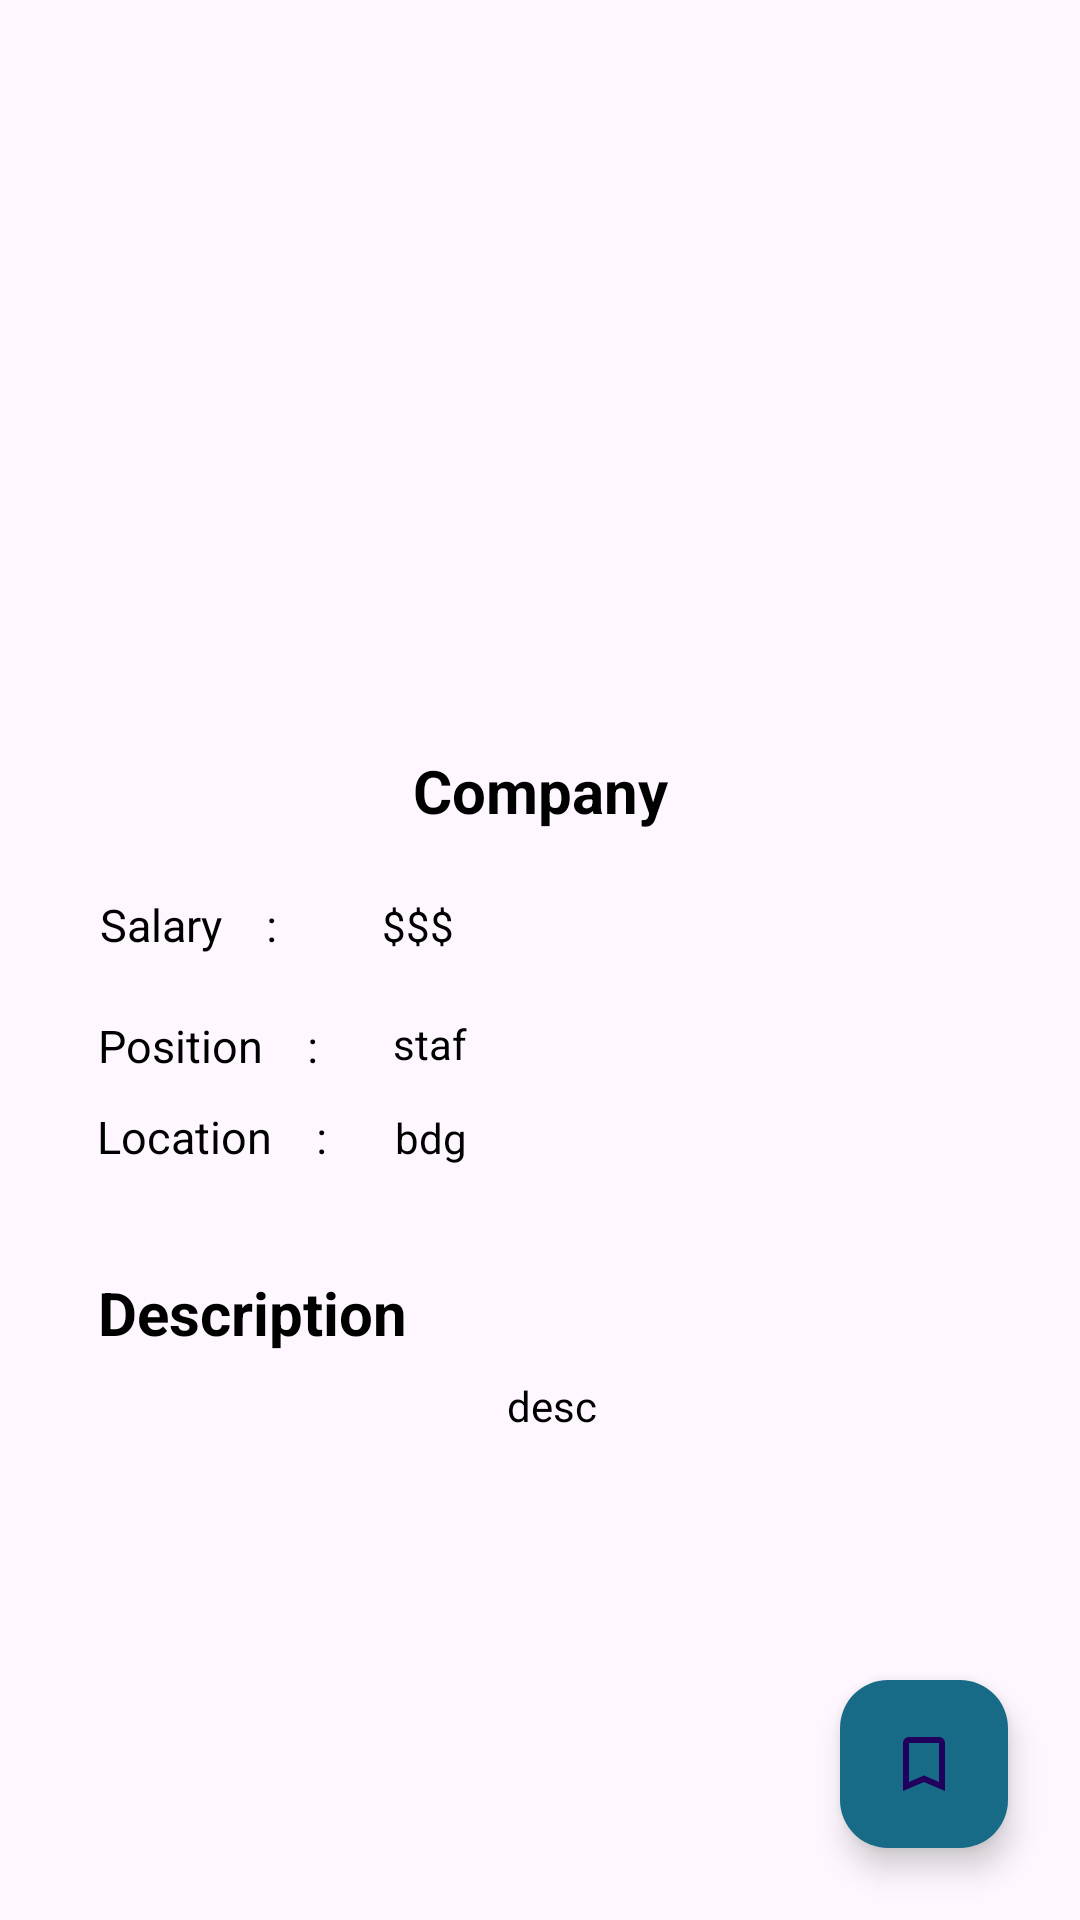

Screen size 1080px x 1920px. Icon name, then its box in pixels as (x1, y1, x2, y2):
favorit: (840, 1680, 1008, 1848)
